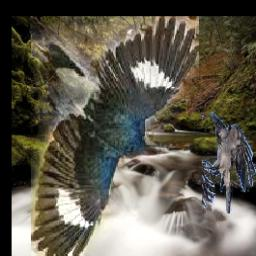Crow: (202, 112, 256, 214)
Woodpecker: (31, 16, 199, 256)
